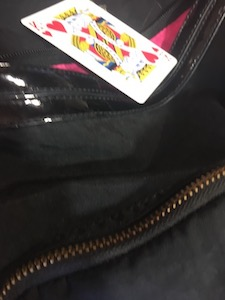KingOfHearts: (20, 1, 182, 106)
